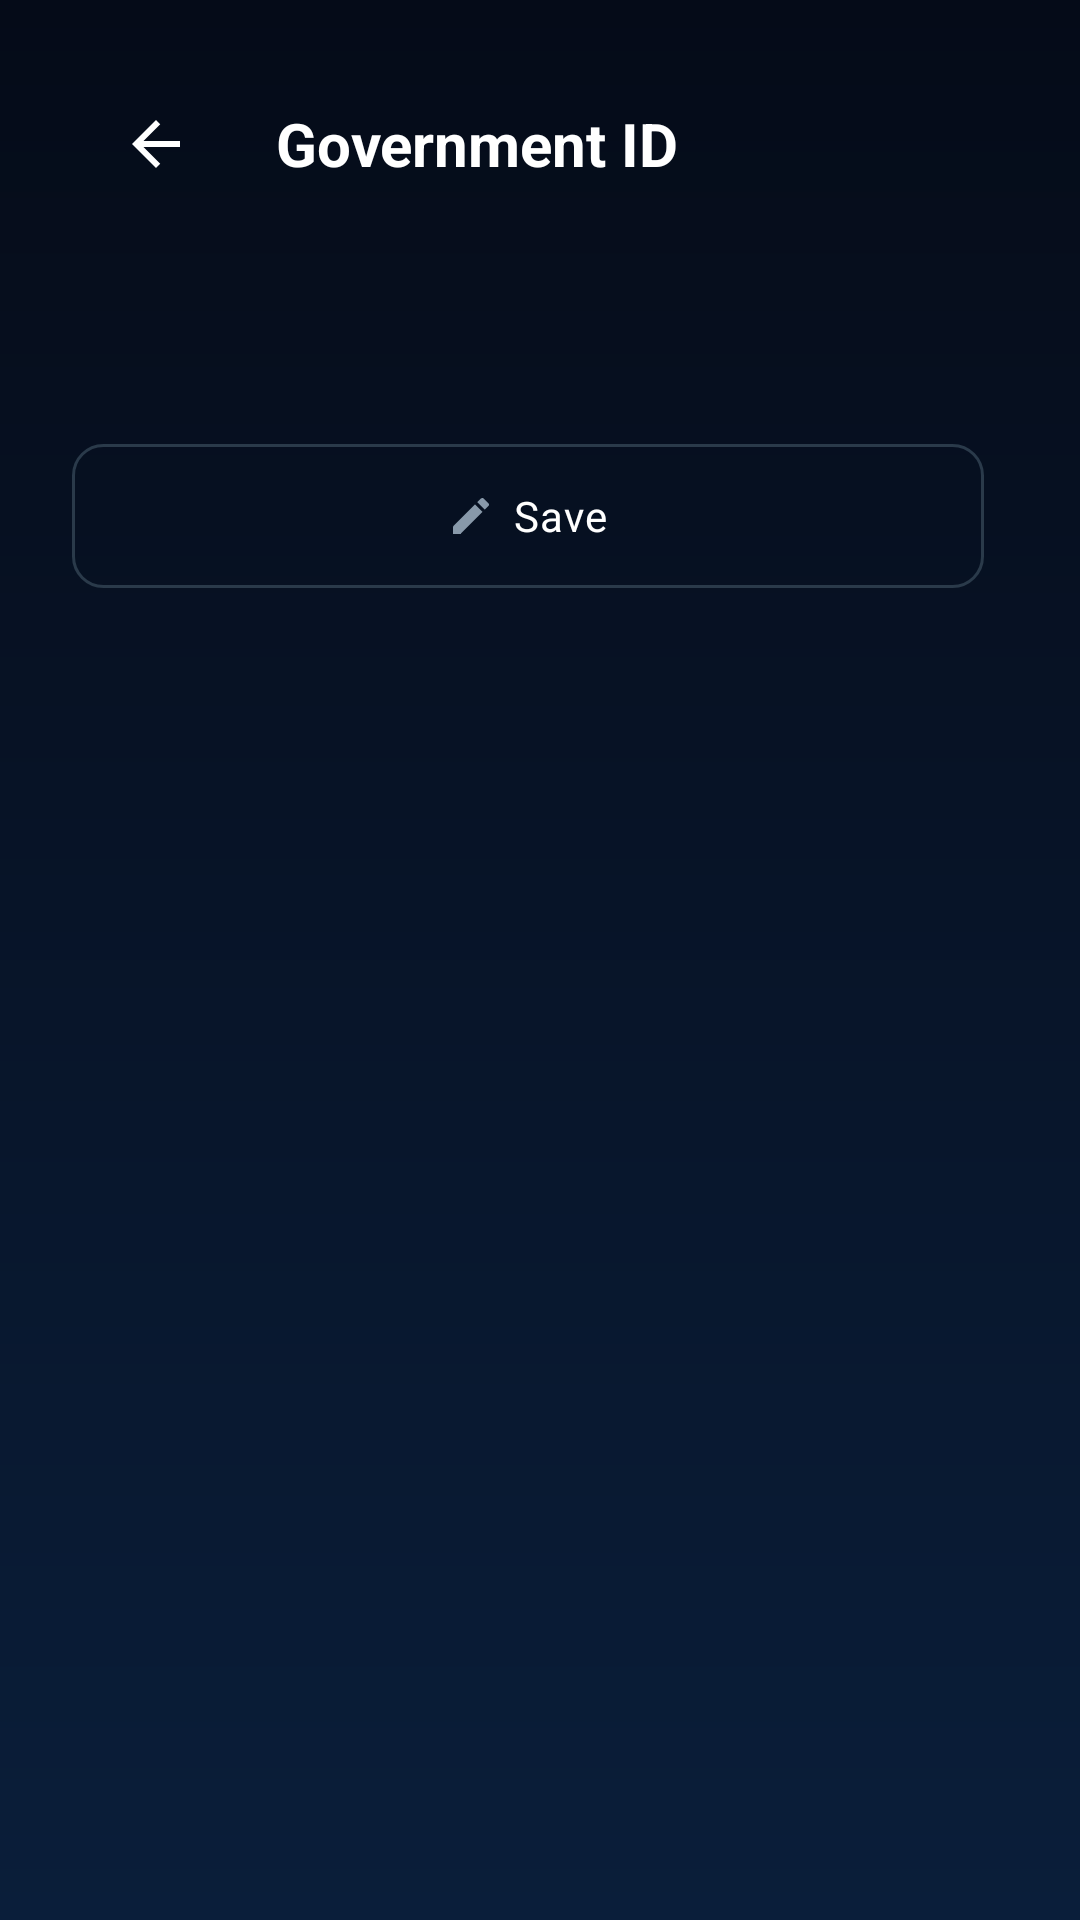

Icons on this 1080 × 1920 Android screen, each with the point to tap as [x,y]:
edit: [471,516]
